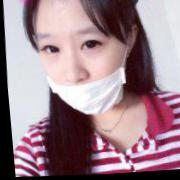WRONG: (32, 17, 132, 122)
